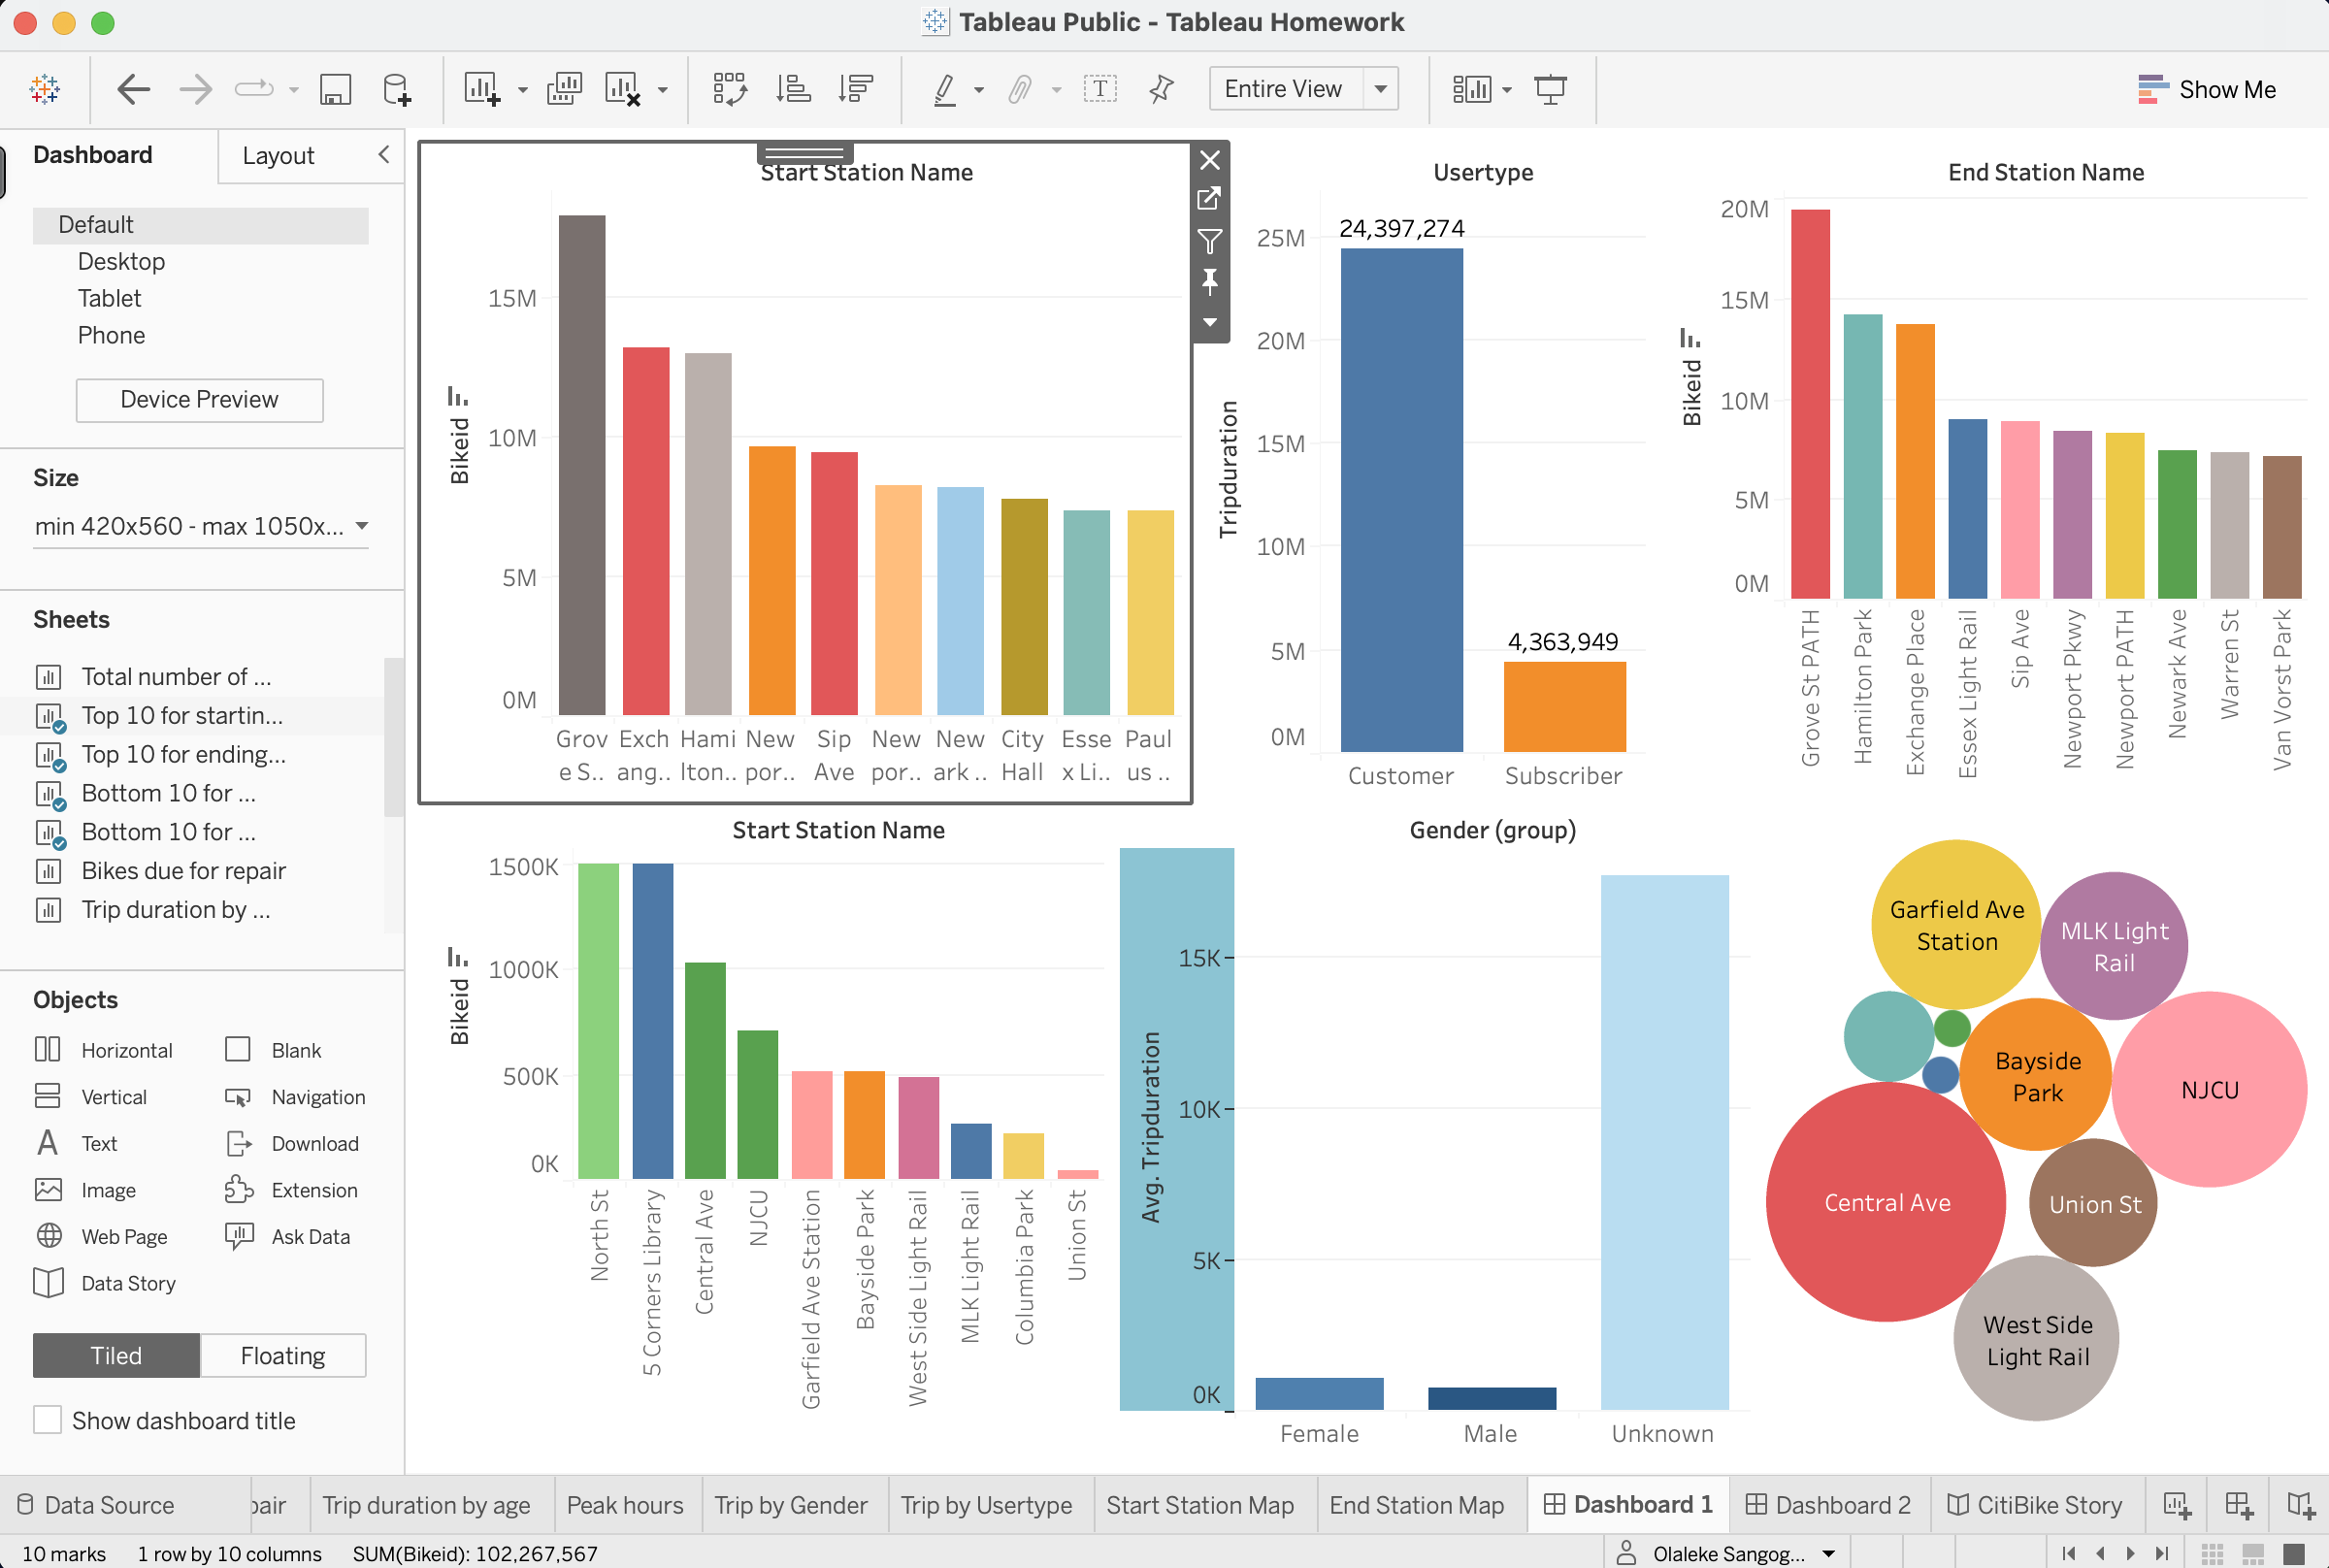

The page's visual inventory and layout, read from the dashboard file:
{"tool":"tableau","page":{"name":"Dashboard 1","canvas":[1000,1000],"units":"permille","ordinal":0},"visuals":[{"type":"worksheet","title":"Top 10 for starting a journey","mark":"Automatic","rows":["bikeid"],"cols":["start station name"],"box":[8.1,11.5,399.2,488.5]},{"type":"worksheet","title":"Trip by Usertype","mark":"Automatic","rows":["tripduration"],"cols":["usertype"],"box":[407.2,11.5,240.9,488.5]},{"type":"worksheet","title":"Top 10 for ending a journey","mark":"Automatic","rows":["bikeid"],"cols":["end station name"],"box":[648.2,11.5,343.7,488.5]},{"type":"worksheet","title":"Bottom 10 for starting a journey","mark":"Automatic","rows":["bikeid"],"cols":["start station name"],"box":[8.1,500,358.7,488.5]},{"type":"worksheet","title":"Trip by Gender","mark":"Automatic","rows":["tripduration"],"box":[366.8,500,335.9,488.5]},{"type":"worksheet","title":"Bottom 10 for ending a journey","mark":"Circle","box":[702.6,500,289.3,488.5]}]}

Visuals, with their boxes on the dashboard's canvas, which has no fixed pixel size, in thousandths of its width and height (x1, y1, x2, y2). These are canvas units, not pixel positions in the 2329x1568 screenshot, which may show the page scaled, cropped or inside an application window:
"Top 10 for starting a journey" worksheet: select_region(8, 12, 407, 500)
"Trip by Usertype" worksheet: select_region(407, 12, 648, 500)
"Top 10 for ending a journey" worksheet: select_region(648, 12, 992, 500)
"Bottom 10 for starting a journey" worksheet: select_region(8, 500, 367, 988)
"Trip by Gender" worksheet: select_region(367, 500, 703, 988)
"Bottom 10 for ending a journey" worksheet (Circle marks): select_region(703, 500, 992, 988)
